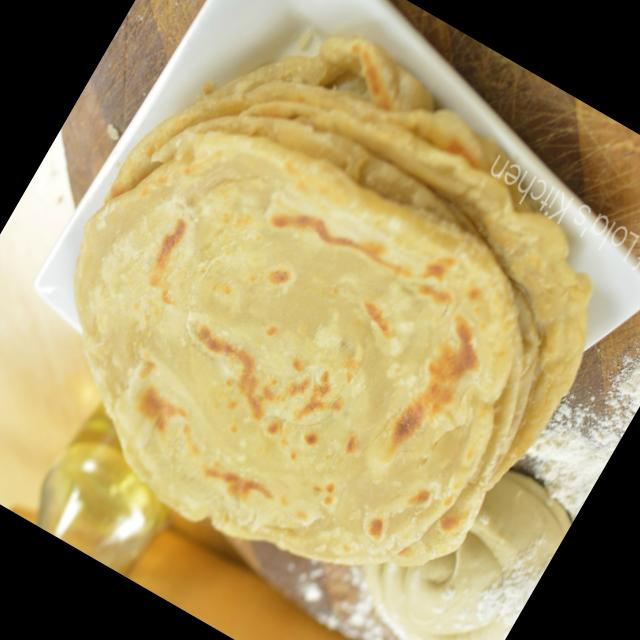roti: (66, 33, 594, 574)
